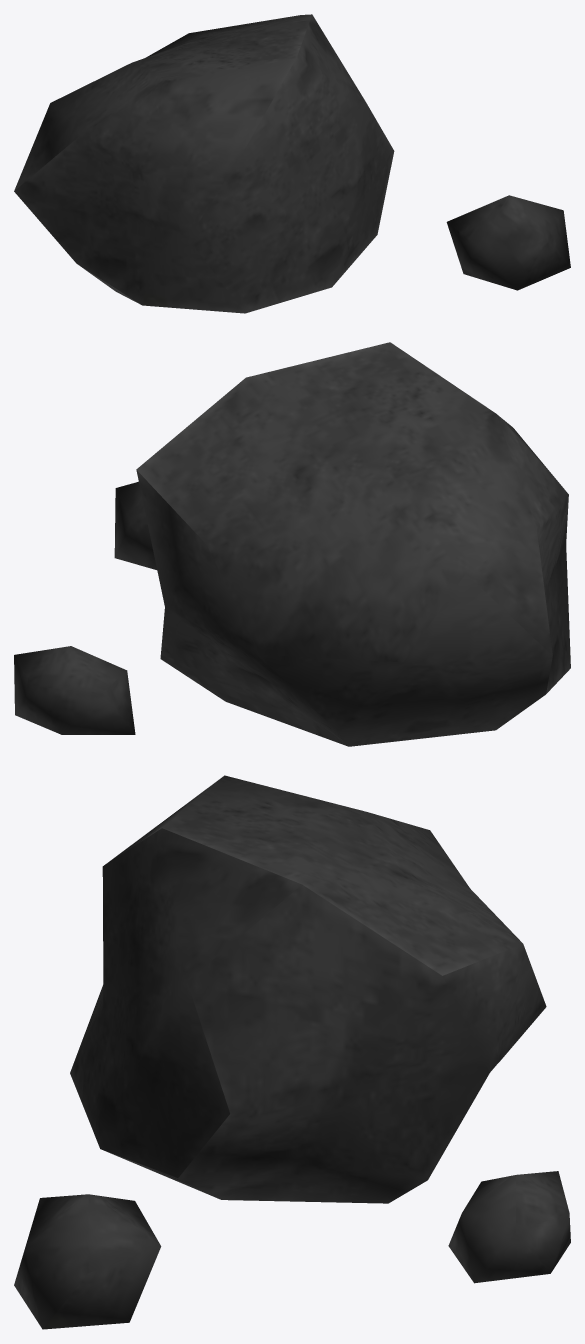
File: rock_ash_1.glb
The picture shows the model from 3 angles, top to bottom: view 1: azimuth 30°, elevation 25°; view 2: azimuth 150°, elevation 25°; view 3: azimuth 270°, elevation 25°; orthographic projection. The views are drawn at different scales.
Visible parts, largest first — view 1: te_prop_rock_ash_1; view 2: te_prop_rock_ash_1; view 3: te_prop_rock_ash_1.
Boxes of the visible parts, x1,y1,x2,y2 form: te_prop_rock_ash_1: (14, 14, 570, 313); te_prop_rock_ash_1: (14, 342, 570, 746); te_prop_rock_ash_1: (14, 775, 570, 1329).
Size of the model in its own units: 0.225 by 0.1142 by 0.1694.
1 material, 1 textured.
